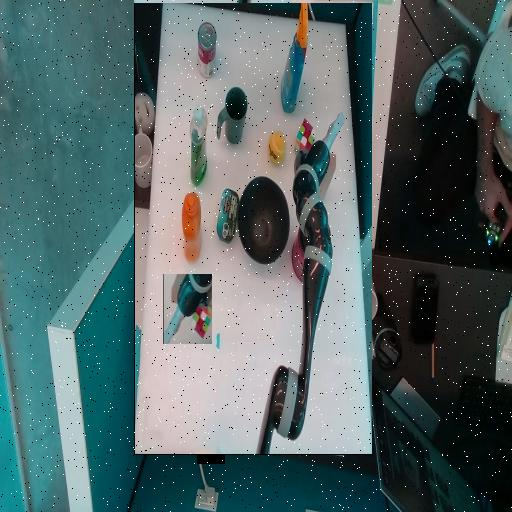bowl: (217, 210, 268, 262)
cleanser: (300, 271, 316, 350)
coffee_can: (175, 190, 214, 229)
jaco: (163, 274, 212, 344)
meat_can: (268, 214, 289, 267)
mug: (259, 313, 289, 369)
mustard_bottle: (306, 195, 324, 263)
rubik: (190, 295, 212, 338)
soup_can: (290, 379, 308, 434)
tennis_ball: (221, 300, 238, 317)
windex: (197, 394, 225, 416)
wooden_block: (171, 258, 195, 304)
workspace: (134, 3, 372, 454)
